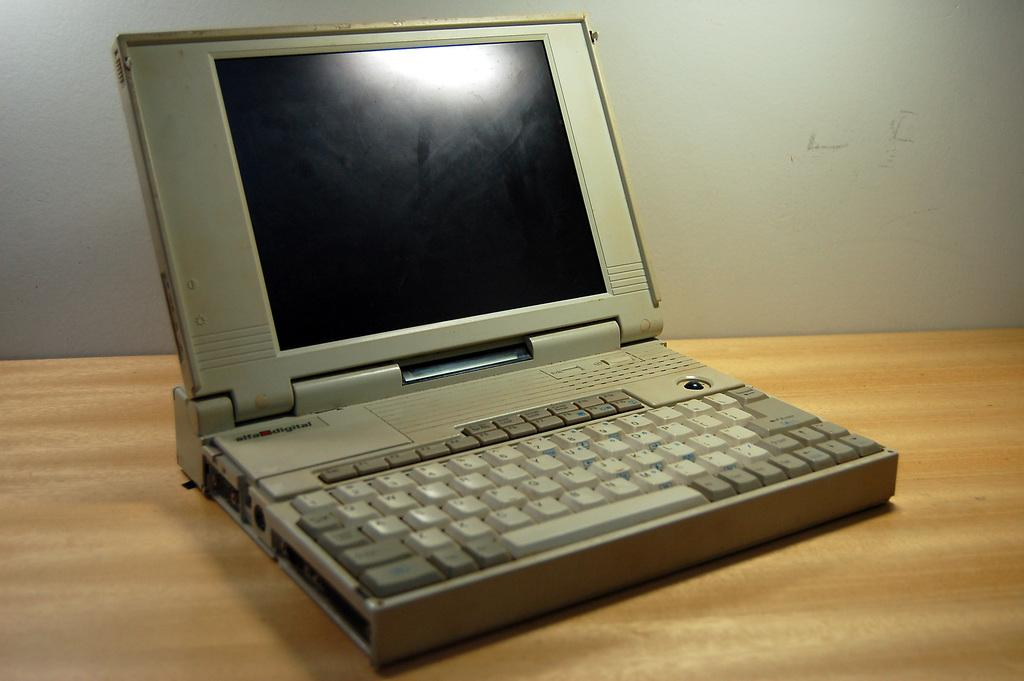Computer-keyboard: (294, 381, 888, 600)
Laptop: (113, 13, 900, 668)
